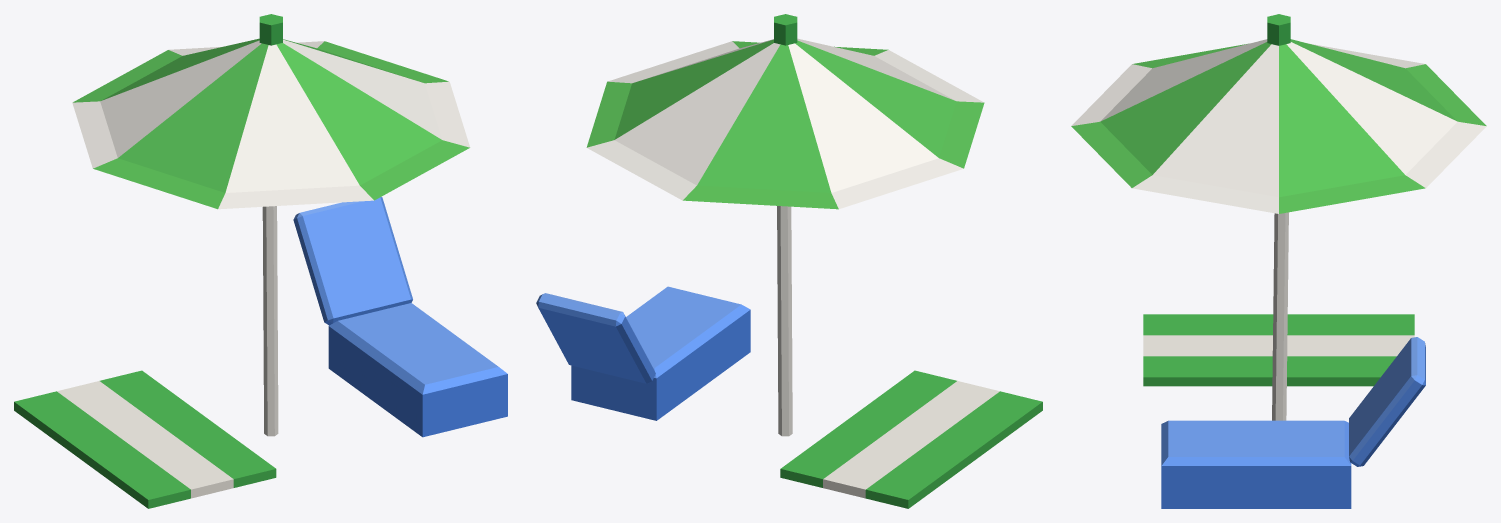
The model's file is BeachUmbrella_3.glb.
The picture shows the model from 3 angles, left to right: view 1: azimuth 30°, elevation 25°; view 2: azimuth 150°, elevation 25°; view 3: azimuth 270°, elevation 25°; orthographic projection.
Visible parts, largest first — view 1: BeachUmbrella_3; view 2: BeachUmbrella_3; view 3: BeachUmbrella_3.
Boxes of the visible parts, x1,y1,x2,y2 form: BeachUmbrella_3: [14, 14, 507, 508]; BeachUmbrella_3: [536, 14, 1042, 508]; BeachUmbrella_3: [1071, 14, 1486, 508].
Bounding box in the file's own units: 9.5 × 10.2 × 9.2.
Materials: 1 (1 with a texture image).
